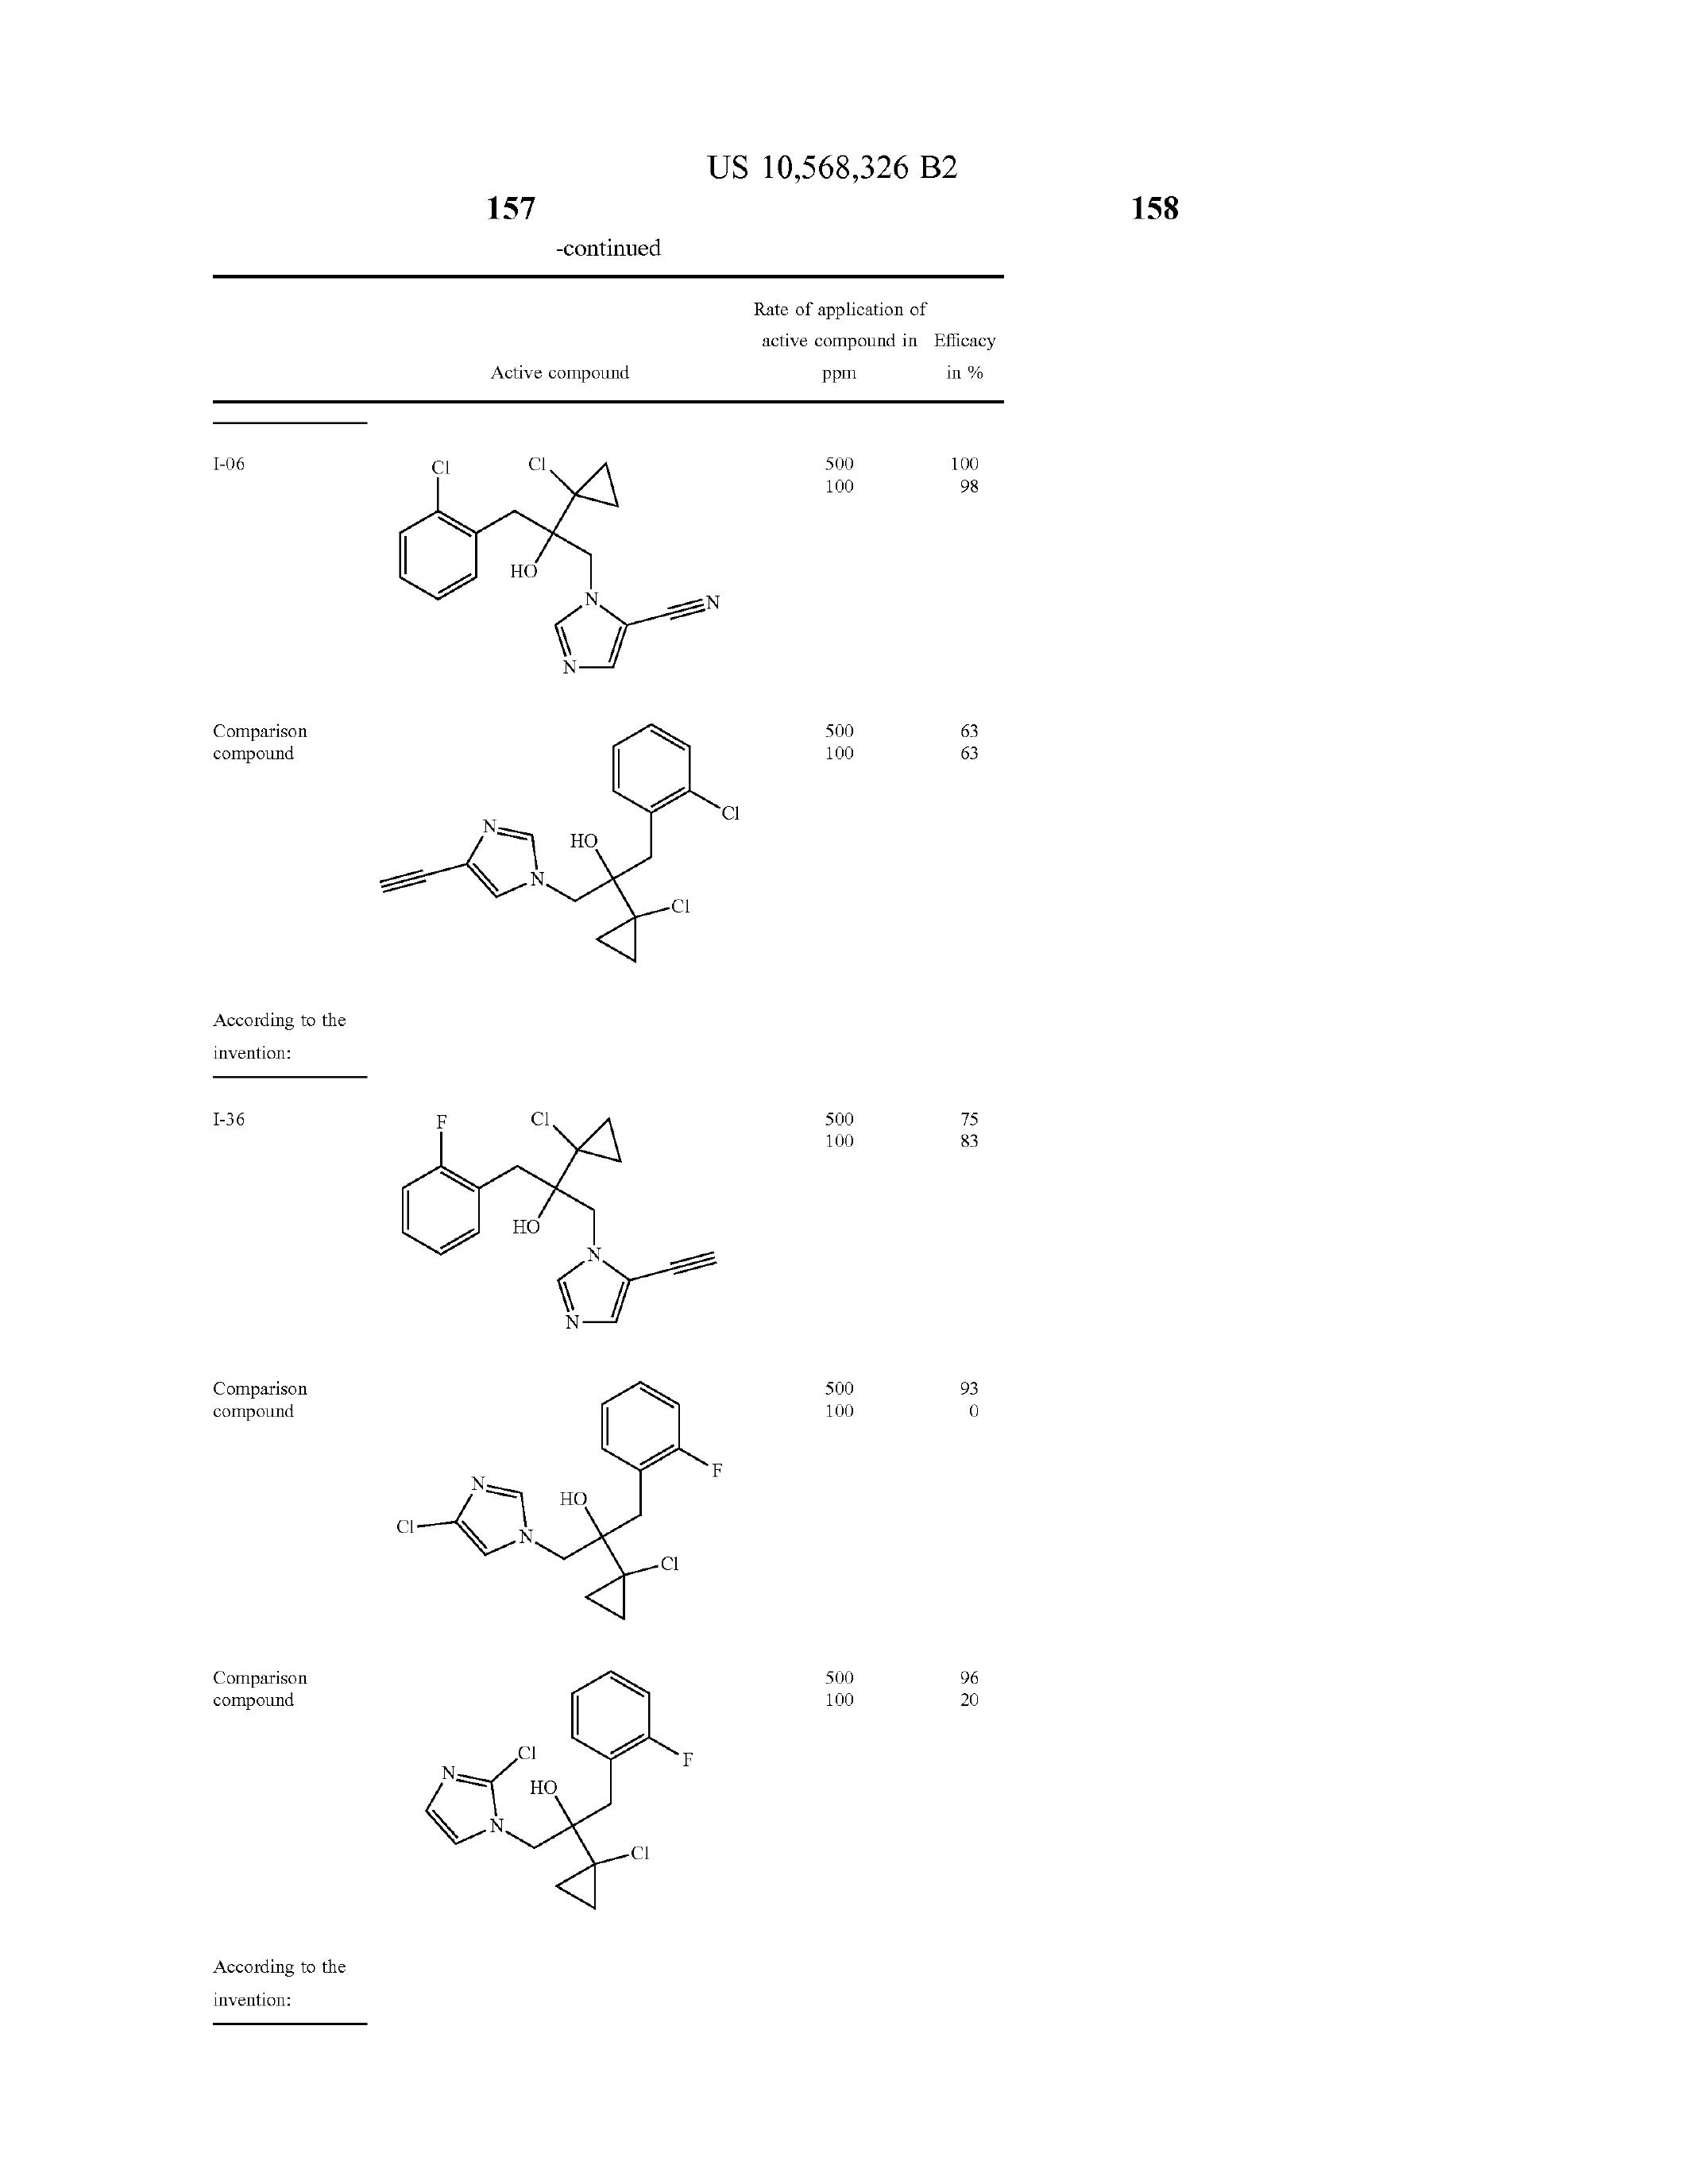relevant-structures: (367, 706, 789, 1023), (397, 1666, 773, 1985), (367, 1080, 745, 1377), (387, 1390, 766, 1636), (369, 450, 761, 684)
